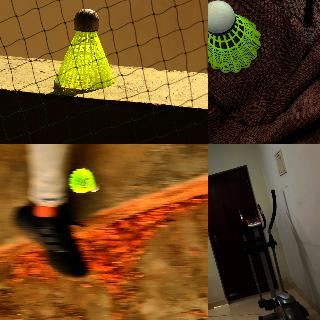shuttlecock: (54, 8, 114, 88), (208, 0, 261, 73), (67, 166, 99, 194)
